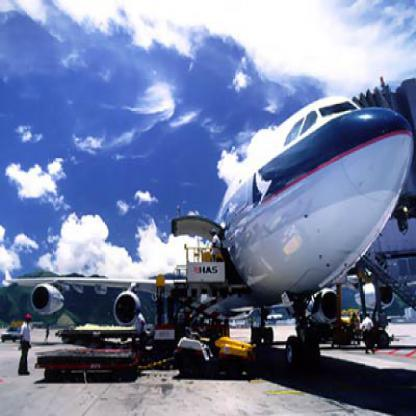CIV_Plane: (8, 88, 415, 372)
